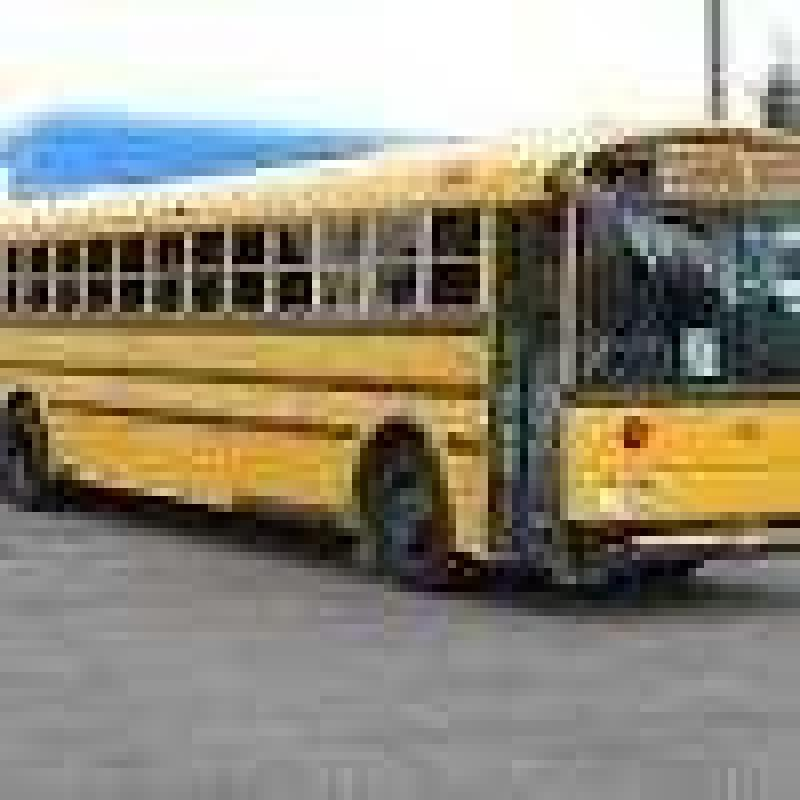bus: (11, 119, 800, 723)
